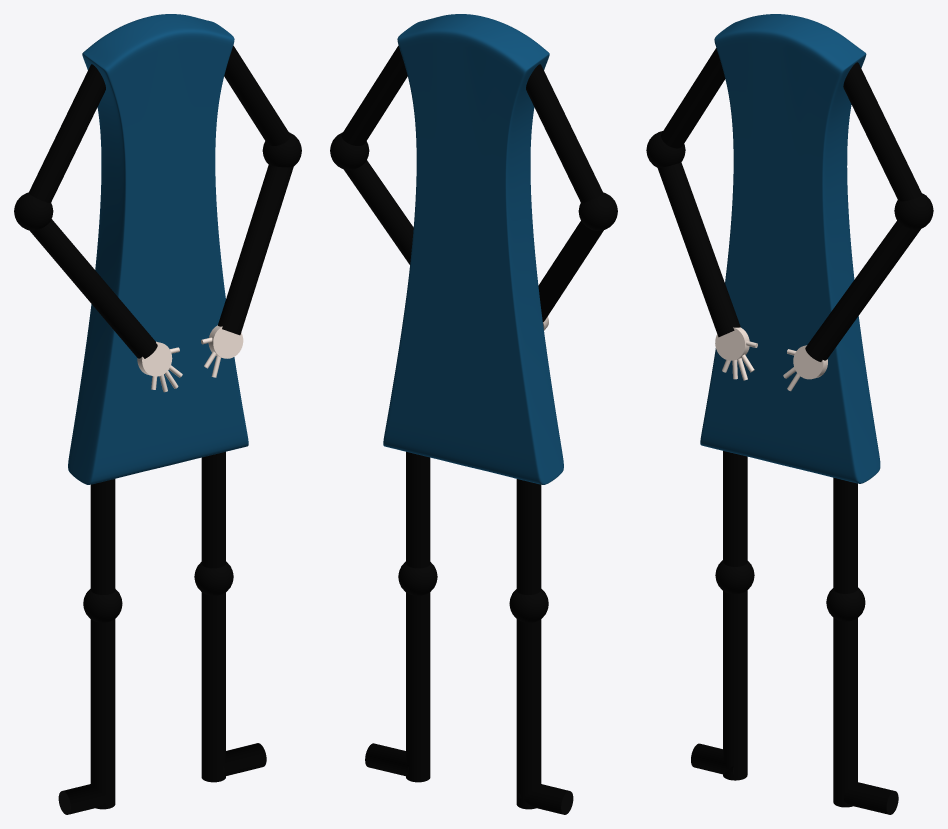
3 renders of one model, left to right at view 1: azimuth 30°, elevation 25°; view 2: azimuth 150°, elevation 25°; view 3: azimuth 330°, elevation 25°, orthographic.
Parts seen in each view (by area): view 1: MaleBody, leftForeLeg, rightForeLeg, LeftForeArm, RightForeArm, RightUpperArm, rightUpperLeg, LeftUpperLeg, LeftUpperArm, rightUpperArmSphere, rightFoot, leftFoot (+5 smaller); view 2: MaleBody, leftForeLeg, rightForeLeg, RightUpperArm, rightUpperLeg, LeftUpperLeg, LeftUpperArm, LeftForeArm, RightForeArm, rightUpperArmSphere, rightFoot, leftFoot (+3 smaller); view 3: MaleBody, rightForeLeg, RightForeArm, leftForeLeg, LeftForeArm, LeftUpperArm, LeftUpperLeg, rightUpperLeg, RightUpperArm, leftFoot, LeftUpperArmSphere, leftUpperLegSphere (+5 smaller).
Boxes of the visible parts, bbox=[...] form: MaleBody: bbox=[68, 14, 248, 484]; leftForeLeg: bbox=[201, 592, 225, 782]; rightForeLeg: bbox=[90, 619, 115, 809]; LeftForeArm: bbox=[218, 165, 293, 335]; RightForeArm: bbox=[30, 219, 157, 358]; RightUpperArm: bbox=[28, 64, 105, 202]; rightUpperLeg: bbox=[90, 479, 115, 594]; LeftUpperLeg: bbox=[201, 451, 225, 568]; LeftUpperArm: bbox=[224, 45, 290, 145]; rightUpperArmSphere: bbox=[14, 192, 53, 230]; rightFoot: bbox=[58, 784, 113, 814]; leftFoot: bbox=[223, 743, 266, 775]; MaleBody: bbox=[383, 14, 563, 484]; leftForeLeg: bbox=[406, 592, 430, 782]; rightForeLeg: bbox=[516, 619, 541, 809]; RightUpperArm: bbox=[526, 64, 603, 202]; rightUpperLeg: bbox=[516, 479, 541, 594]; LeftUpperLeg: bbox=[406, 451, 430, 568]; LeftUpperArm: bbox=[341, 45, 407, 145]; LeftForeArm: bbox=[344, 160, 413, 264]; RightForeArm: bbox=[538, 221, 603, 321]; rightUpperArmSphere: bbox=[578, 192, 617, 230]; rightFoot: bbox=[518, 784, 573, 814]; leftFoot: bbox=[365, 743, 408, 776]; MaleBody: bbox=[700, 14, 880, 483]; rightForeLeg: bbox=[723, 590, 747, 780]; RightForeArm: bbox=[657, 162, 740, 337]; leftForeLeg: bbox=[833, 618, 857, 807]; LeftForeArm: bbox=[805, 221, 920, 361]; LeftUpperArm: bbox=[843, 62, 921, 201]; LeftUpperLeg: bbox=[833, 477, 857, 593]; rightUpperLeg: bbox=[723, 451, 747, 566]; RightUpperArm: bbox=[661, 48, 725, 148]; leftFoot: bbox=[844, 782, 898, 814]; LeftUpperArmSphere: bbox=[894, 193, 933, 229]; leftUpperLegSphere: bbox=[826, 587, 865, 621].
Size of the model in its own units: 133 by 345 by 36.69.
